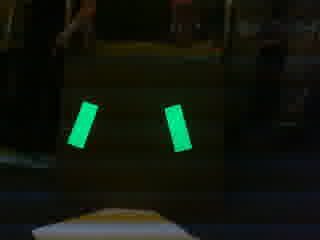target: (64, 100, 195, 155)
